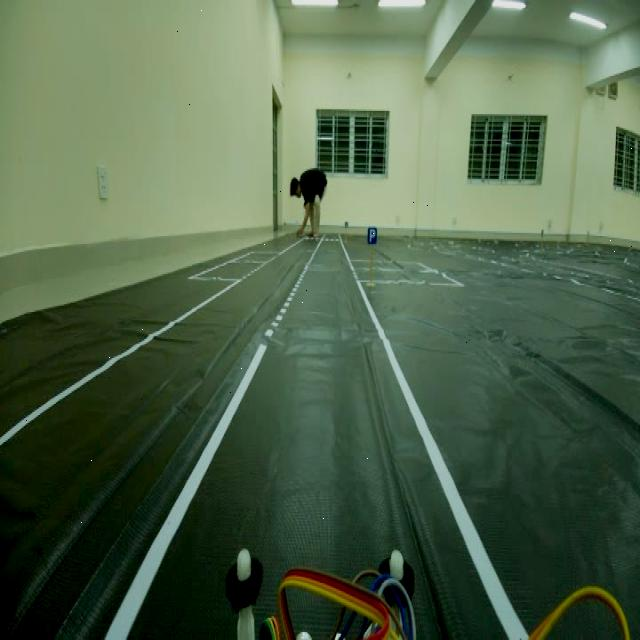parking: (360, 221, 382, 251)
